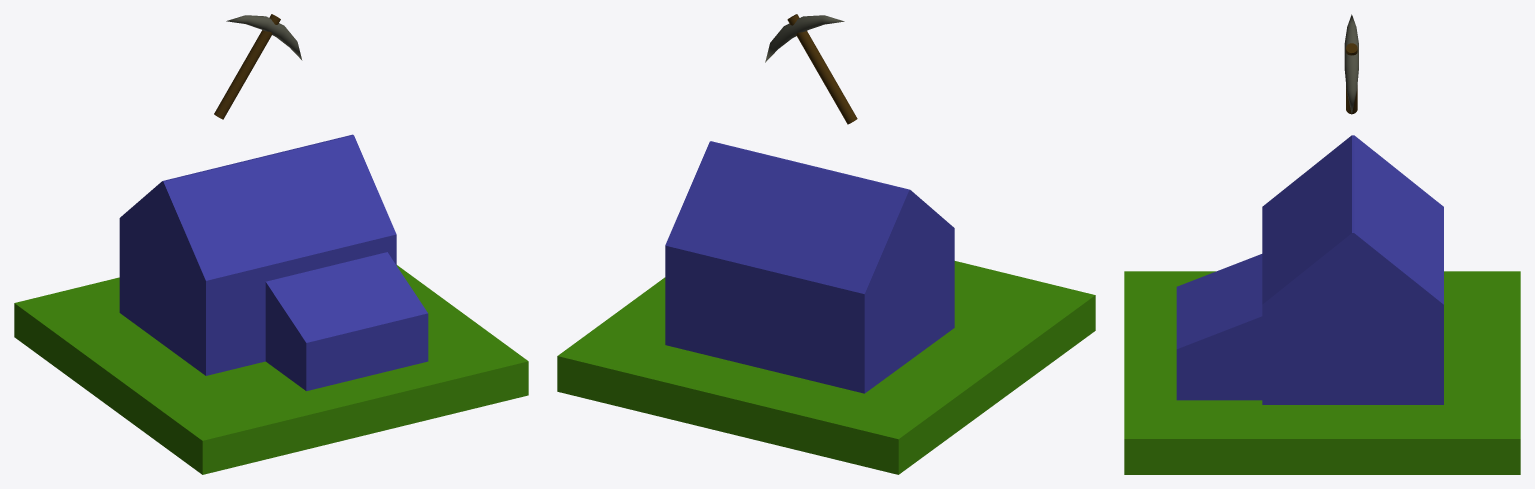
The model's file is BasicFactory.obj.
3 views of the same model, side by side, from view 1: azimuth 30°, elevation 25°; view 2: azimuth 150°, elevation 25°; view 3: azimuth 270°, elevation 25° (orthographic). The views are drawn at different scales.
Visible parts, largest first — view 1: Box001, Tilebase100, Cylinder001, Cylinder002; view 2: Box001, Tilebase100, Cylinder001, Cylinder002; view 3: Box001, Tilebase100, Cylinder002.
Part boxes in pixels (x1,y1,x2,y2): Box001: (119, 134, 428, 391); Tilebase100: (14, 265, 528, 474); Cylinder001: (214, 14, 280, 119); Cylinder002: (226, 15, 302, 60); Box001: (665, 141, 954, 393); Tilebase100: (557, 261, 1095, 474); Cylinder001: (787, 14, 857, 124); Cylinder002: (765, 15, 844, 62); Box001: (1176, 135, 1443, 404); Tilebase100: (1124, 271, 1520, 474); Cylinder002: (1344, 14, 1358, 114).
Bounding box in the file's own units: 10 × 10.06 × 10.
